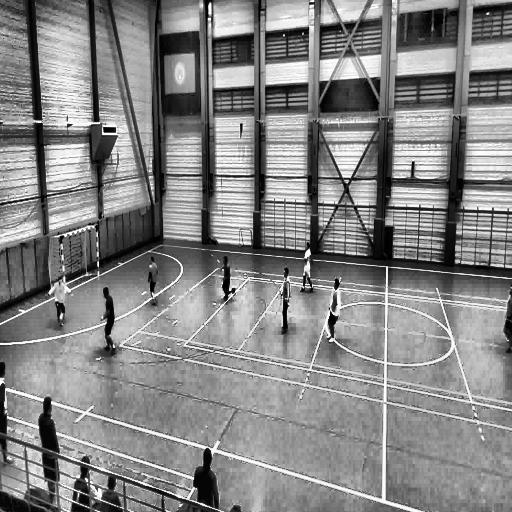ball: (57, 309, 65, 325)
player: (38, 398, 61, 507), (0, 366, 14, 464), (48, 276, 73, 327), (326, 278, 342, 344), (101, 285, 116, 353), (280, 268, 291, 334), (301, 242, 314, 292), (221, 256, 236, 299), (503, 284, 512, 353), (148, 255, 158, 305)
